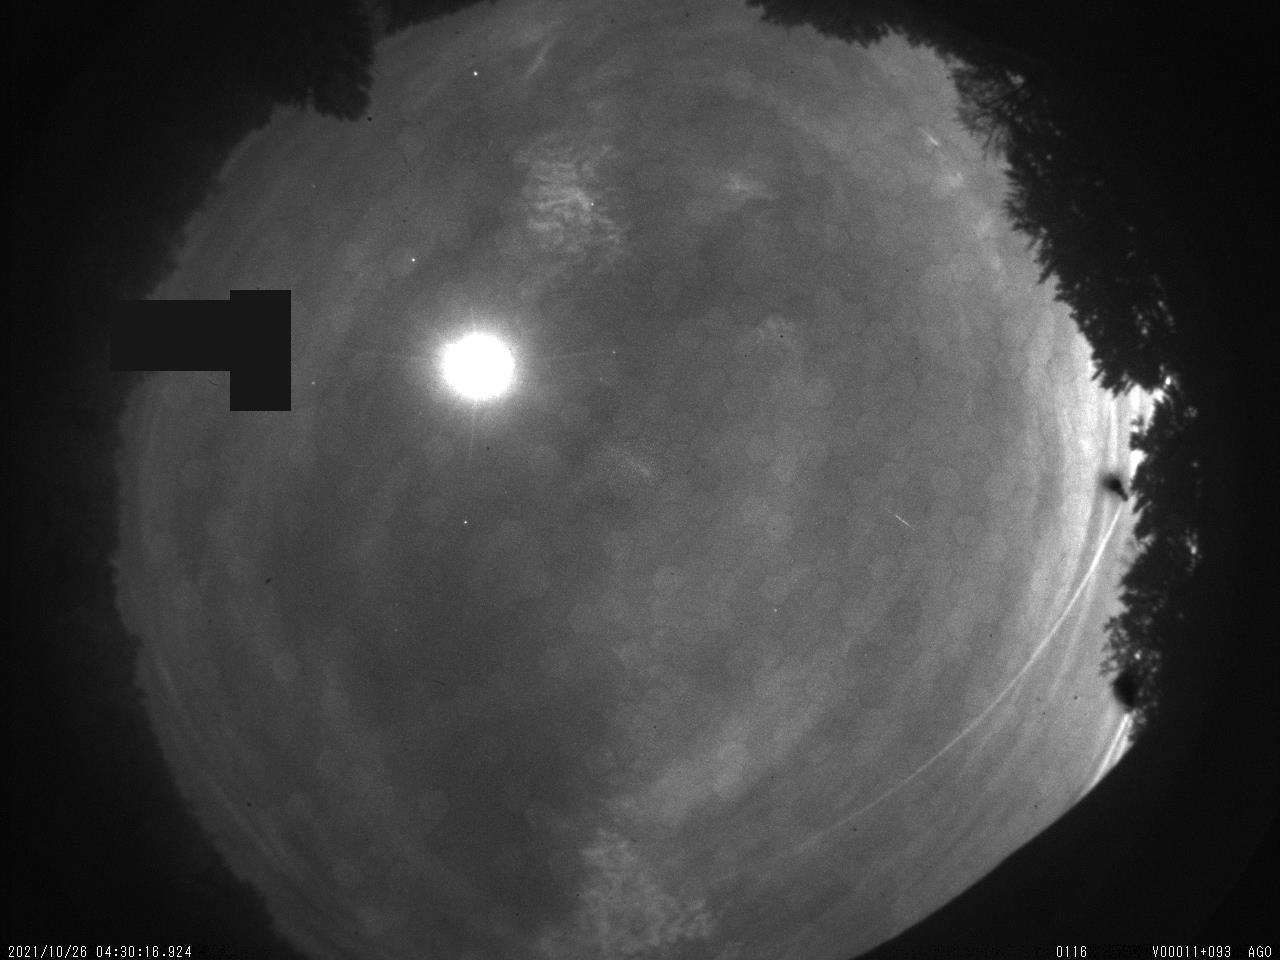Meteor: (883, 497, 921, 539)
